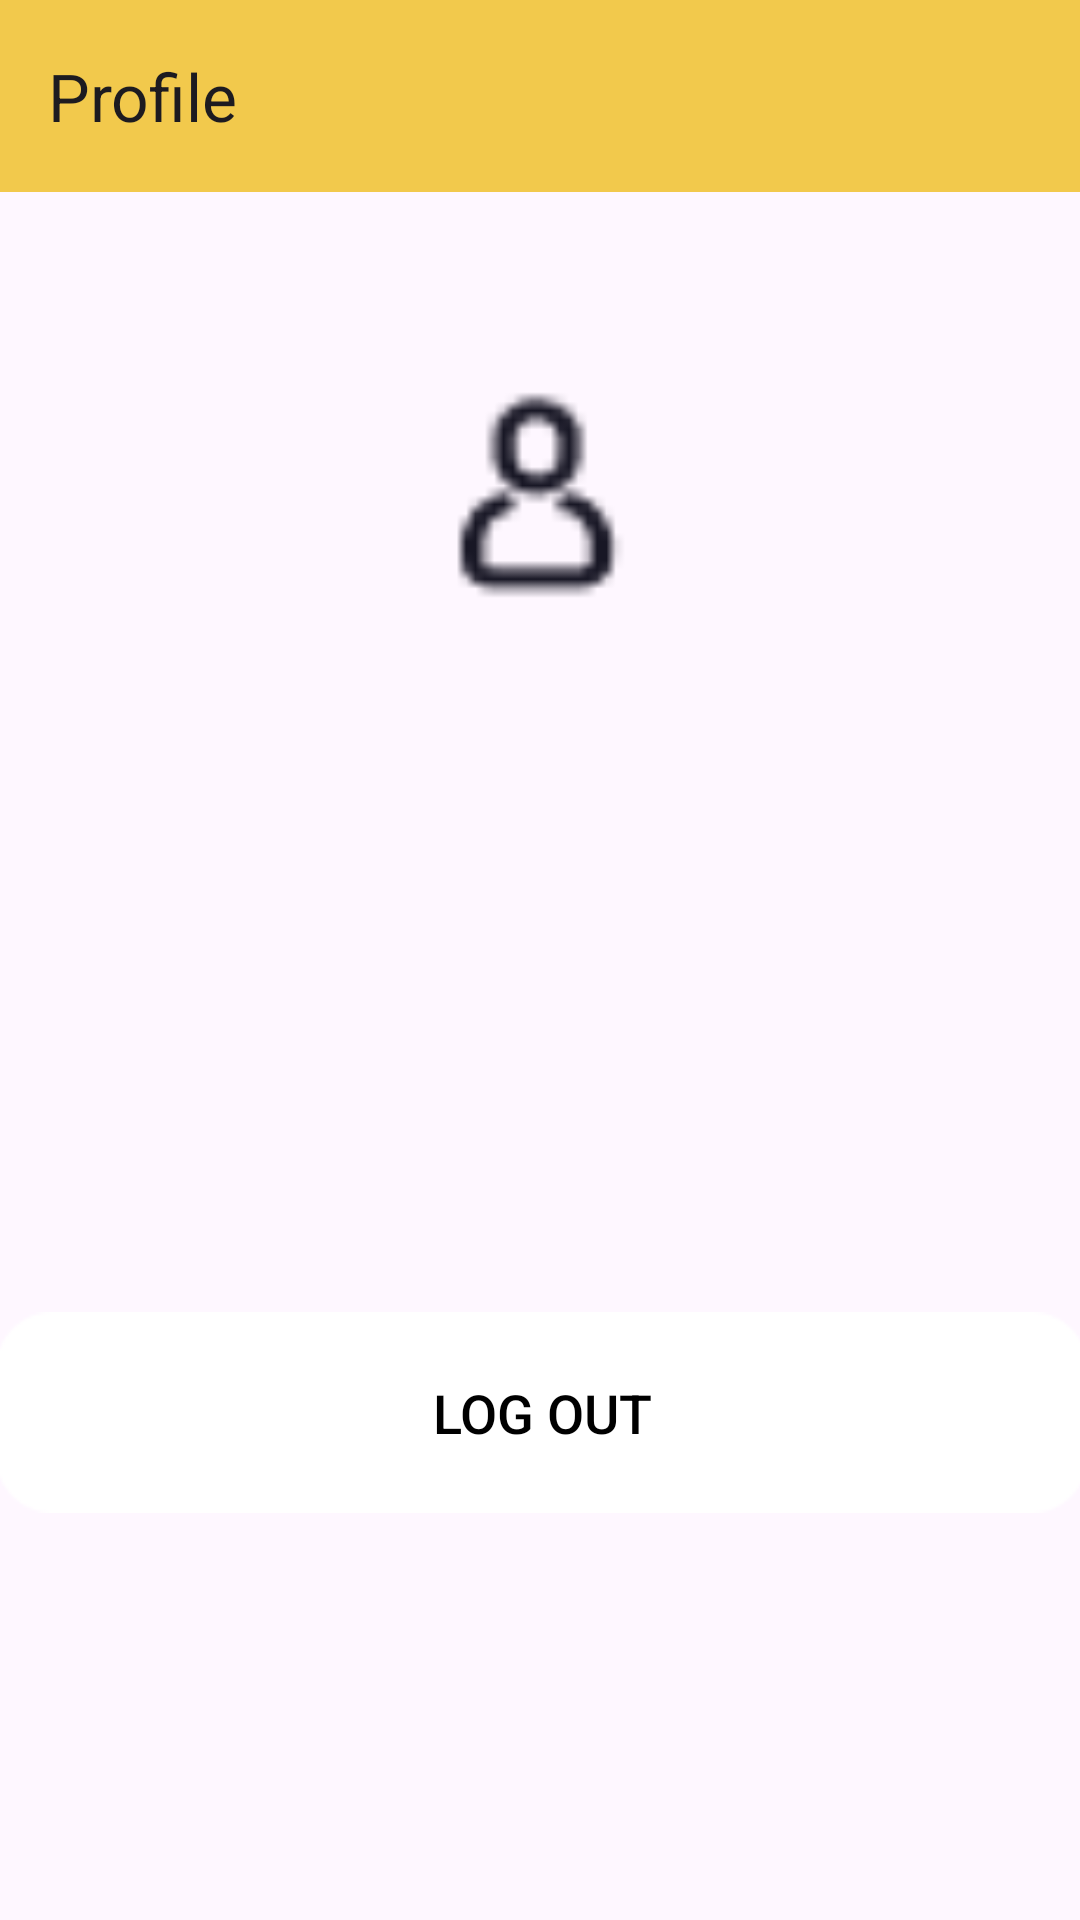

Icon click points for this 1080px×1920px phone screenshot, format (x,y):
profile: (537,494)
